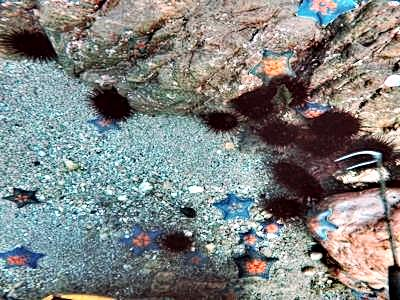urchin: (270, 159, 323, 201), (3, 25, 60, 62), (83, 84, 133, 122), (311, 109, 370, 141), (269, 70, 311, 107), (260, 193, 308, 221), (230, 86, 273, 117), (256, 118, 291, 148), (199, 108, 239, 134), (162, 229, 191, 253)
